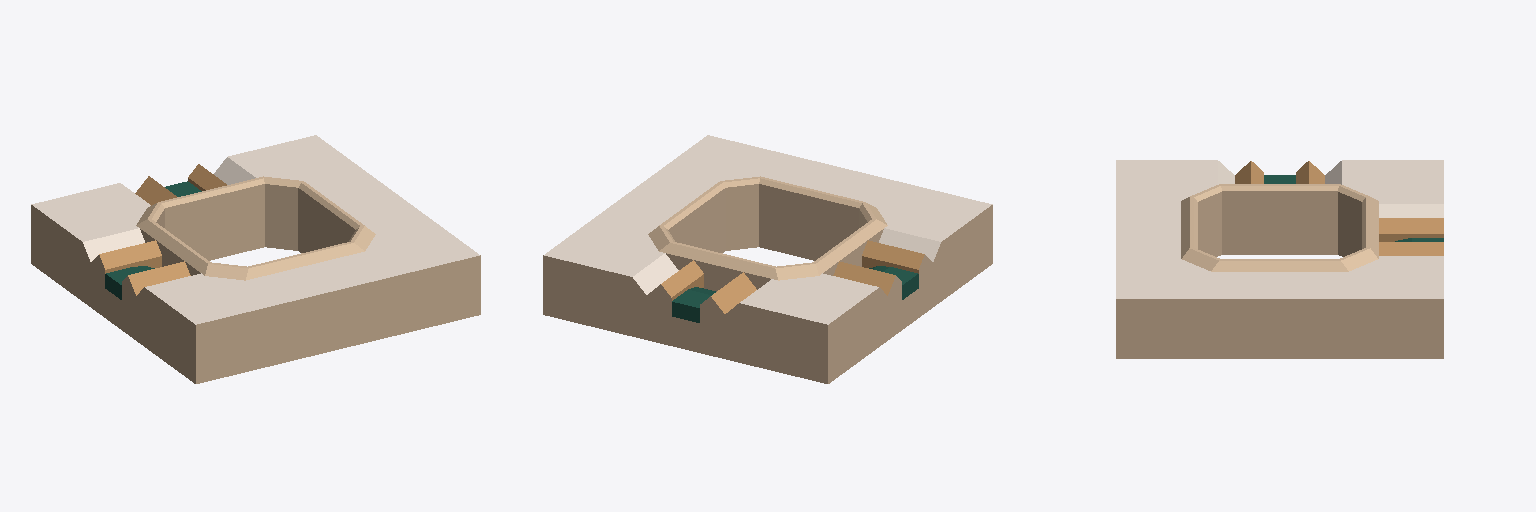
The model's file is Puzzle_Floor_Conduit_Control_Housing_Corner.obj.
3 renders of one model, left to right at view 1: azimuth 30°, elevation 25°; view 2: azimuth 150°, elevation 25°; view 3: azimuth 270°, elevation 25°, orthographic.
Visible parts, largest first — view 1: object3, object1; view 2: object3, object2, object1; view 3: object3.
Part boxes in pixels (x1,y1,x2,y2): object3: (31, 135, 480, 383); object1: (105, 266, 154, 299); object3: (543, 135, 992, 383); object2: (672, 287, 715, 322); object1: (869, 266, 918, 299); object3: (1116, 160, 1443, 358).
Bounding box in the file's own units: 1 × 0.225 × 1.